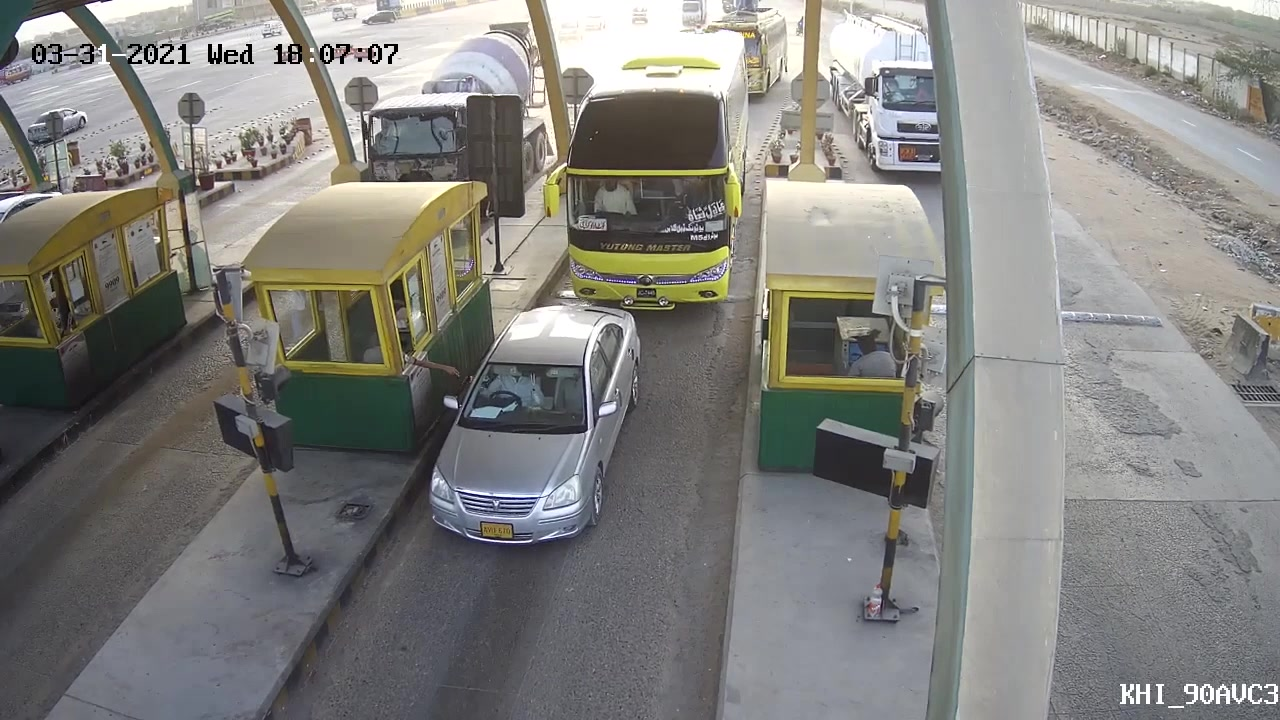F1: (421, 304, 645, 549)
F4: (551, 20, 757, 324)
